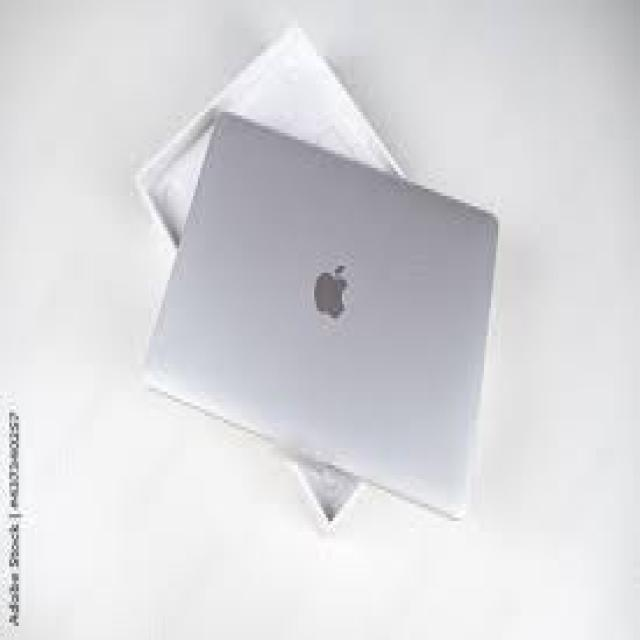laptop: (142, 105, 498, 525)
